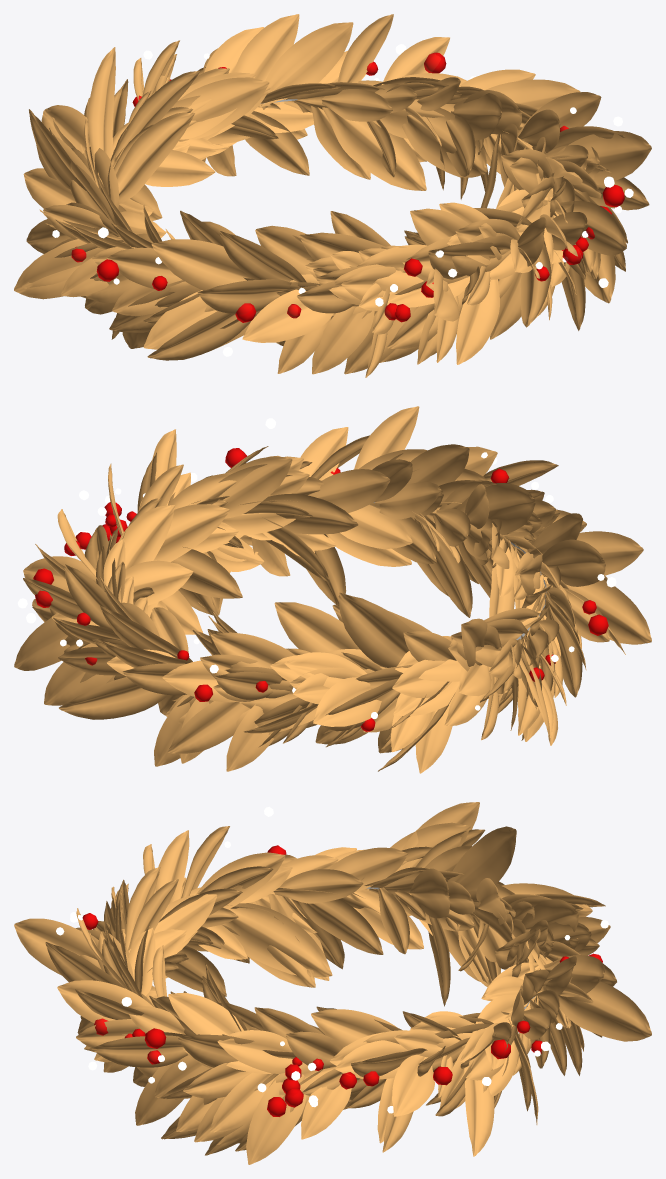
Rendered from graduation.glb.
The picture shows the model from 3 angles, top to bottom: view 1: azimuth 30°, elevation 25°; view 2: azimuth 150°, elevation 25°; view 3: azimuth 270°, elevation 25°; orthographic projection. The views are drawn at different scales.
Visible parts, largest first — view 1: cgaxis_models_91_50_obj.001.042; view 2: cgaxis_models_91_50_obj.001.042; view 3: cgaxis_models_91_50_obj.001.042.
Boxes of the visible parts, left/top/right/bottom form: cgaxis_models_91_50_obj.001.042: left=14, top=14, right=651, bottom=377; cgaxis_models_91_50_obj.001.042: left=14, top=406, right=651, bottom=773; cgaxis_models_91_50_obj.001.042: left=14, top=802, right=651, bottom=1164.
Bounding box in the file's own units: 0.2803 × 0.1002 × 0.305.
